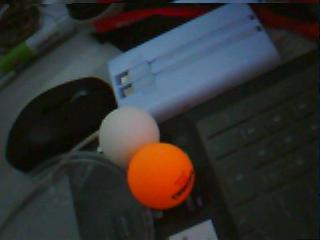oball: (128, 144, 193, 210)
